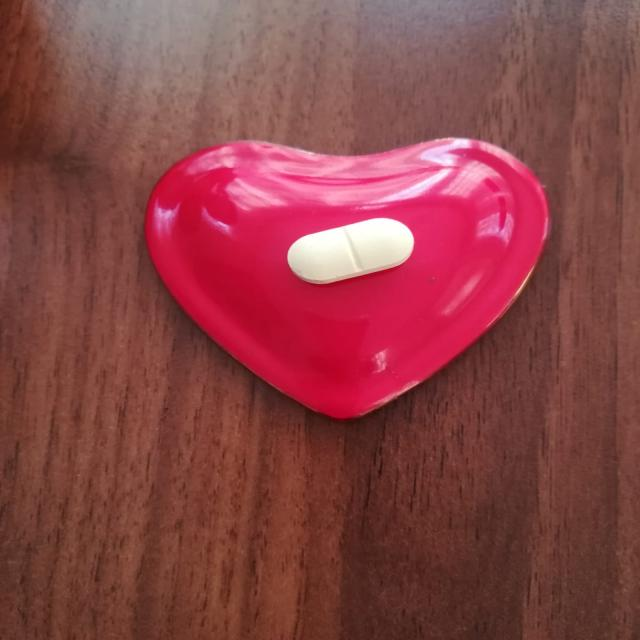pills: (282, 204, 424, 295)
